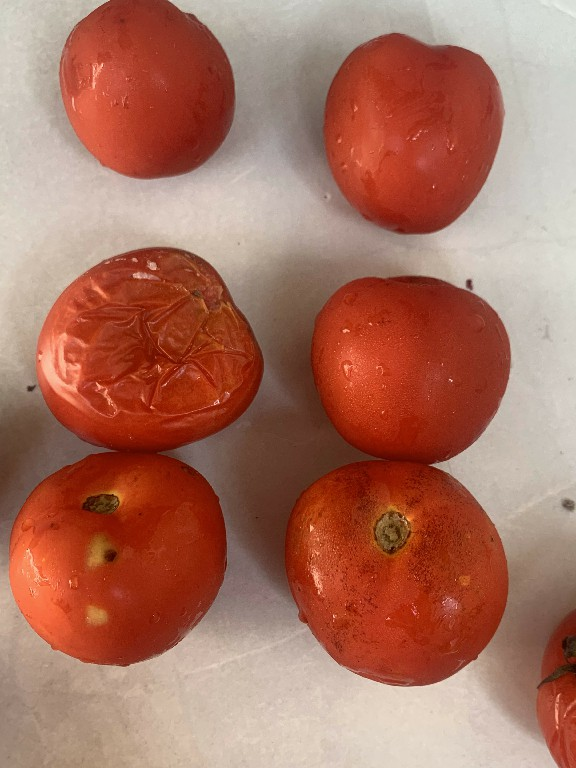NG: (276, 459, 519, 701), (8, 453, 245, 669), (31, 237, 270, 450)
OK: (309, 20, 517, 242), (303, 260, 524, 459), (43, 0, 242, 196)
